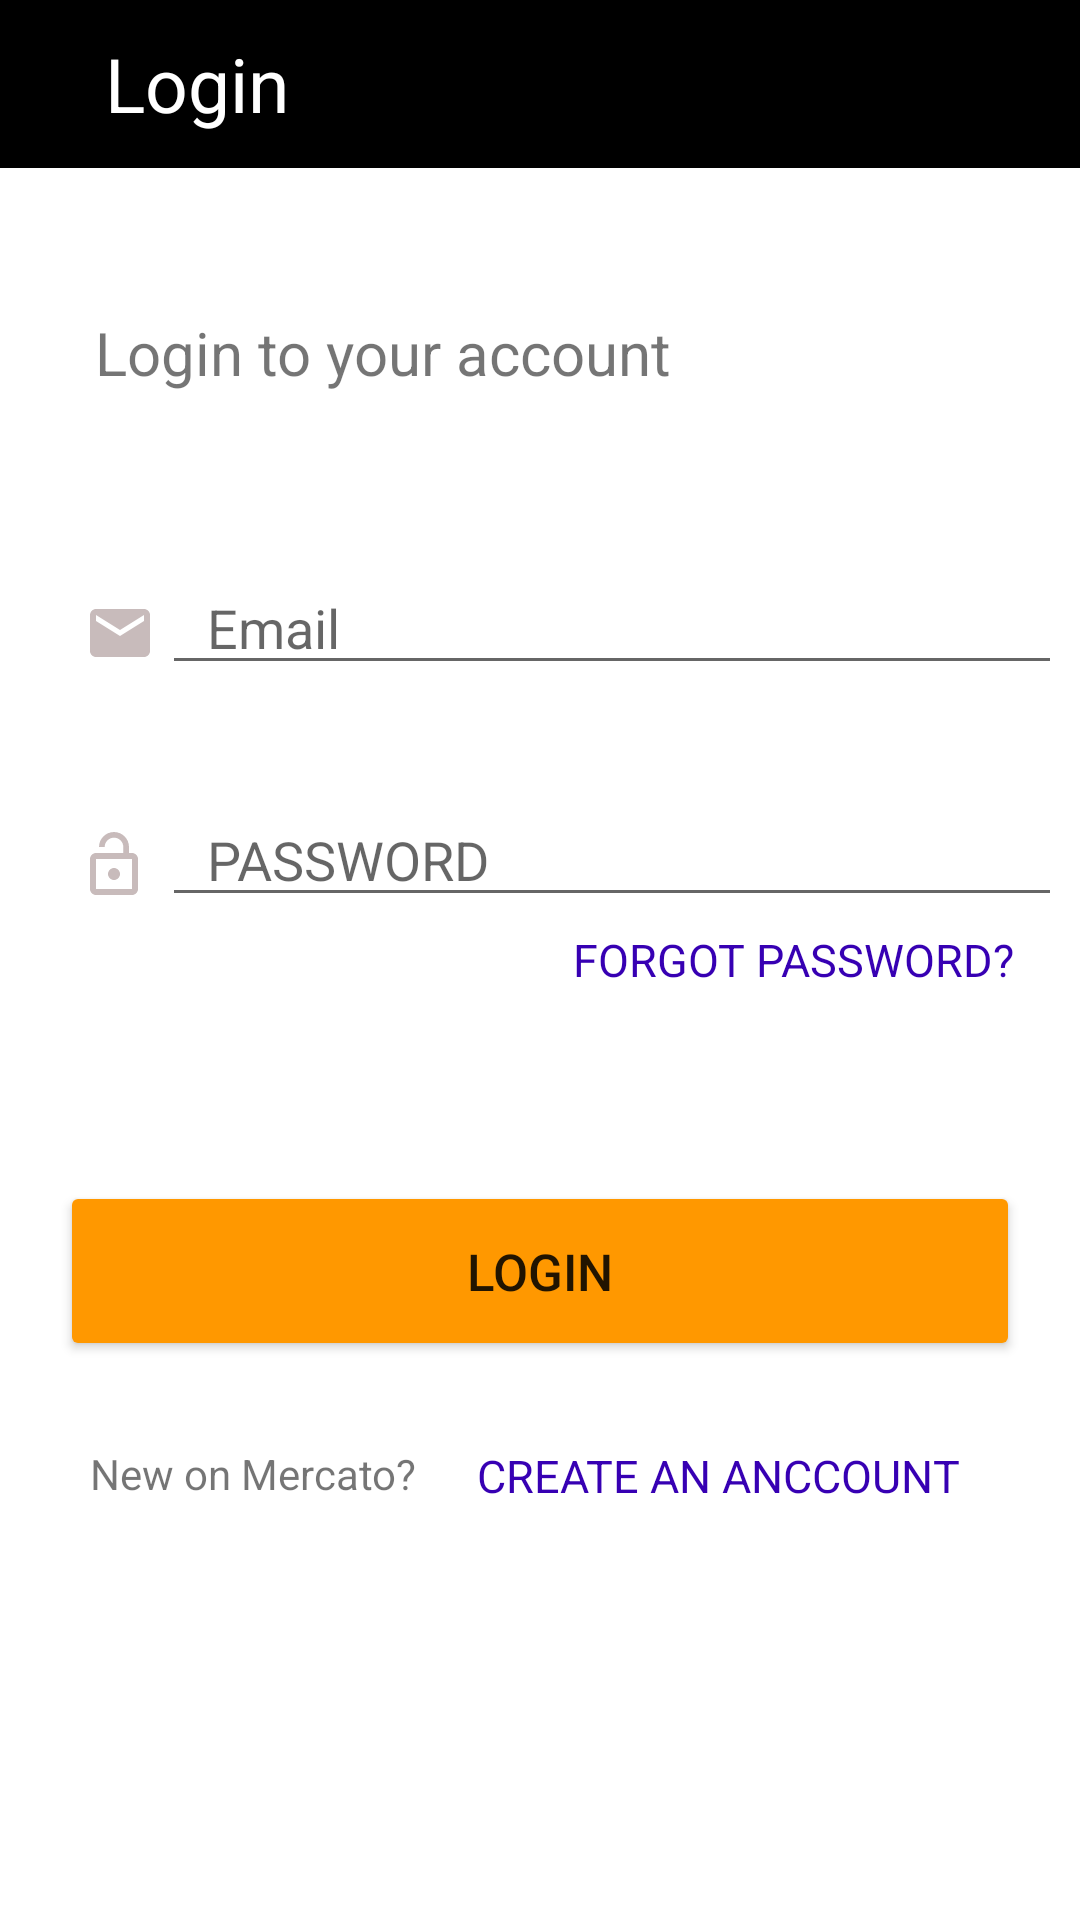

Where icons sit on this 1080*1920 app screen, as (x1, y1, x2, y2):
lock open: (90, 832, 138, 895)
